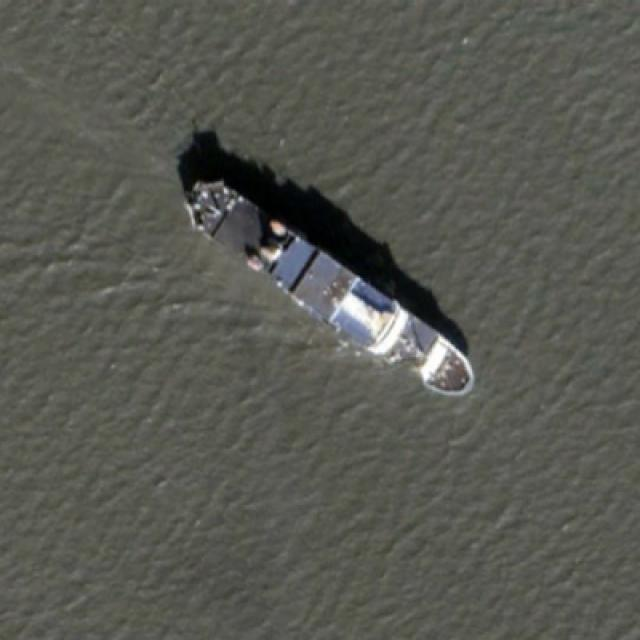boat: (182, 176, 476, 397)
